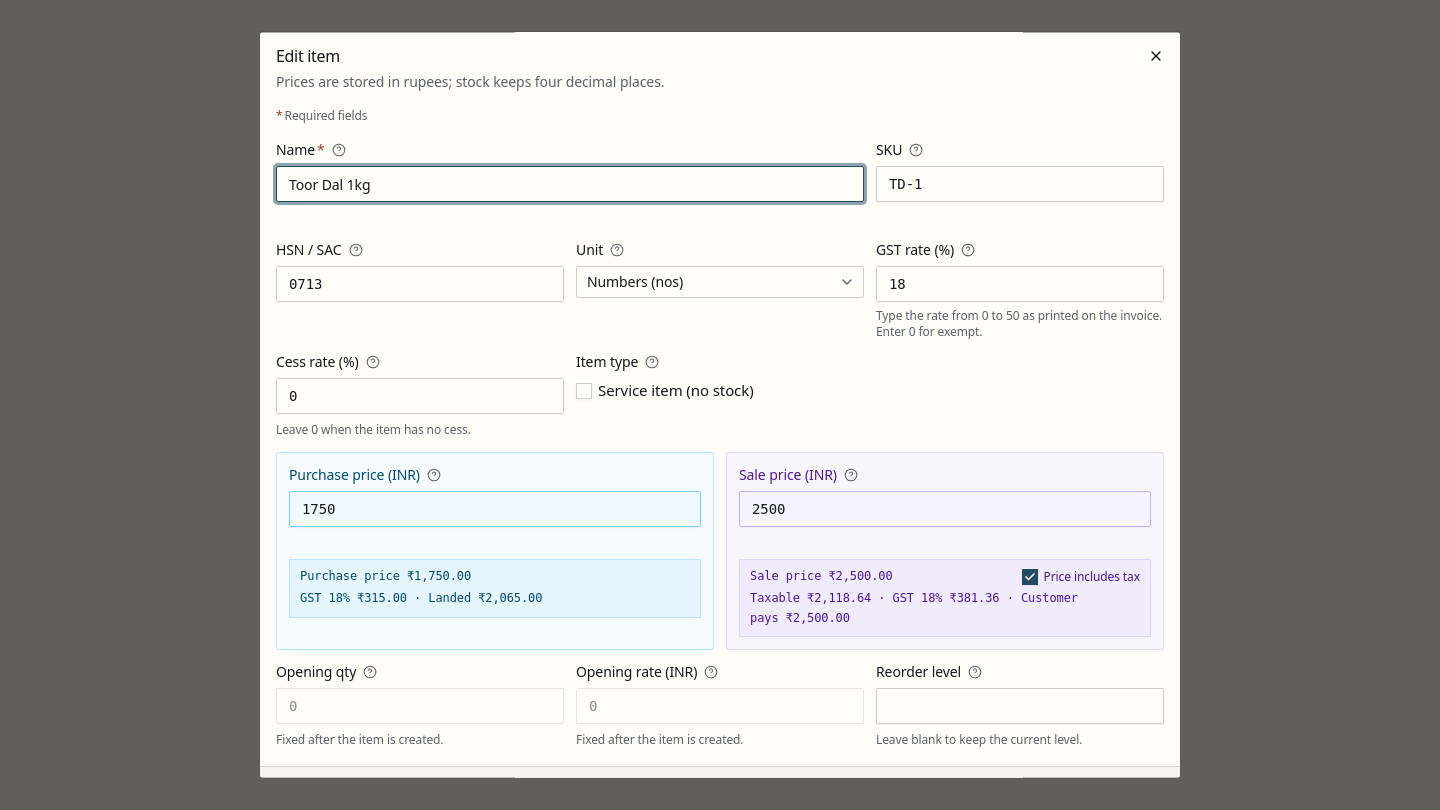
Test case: ItemDialog tax and price breakup › recomputes the breakup from a manually typed GST rate
Replace the text in the field labelled "GST rate (%)" with "5" at (1020, 284), box [876,266,1164,302]
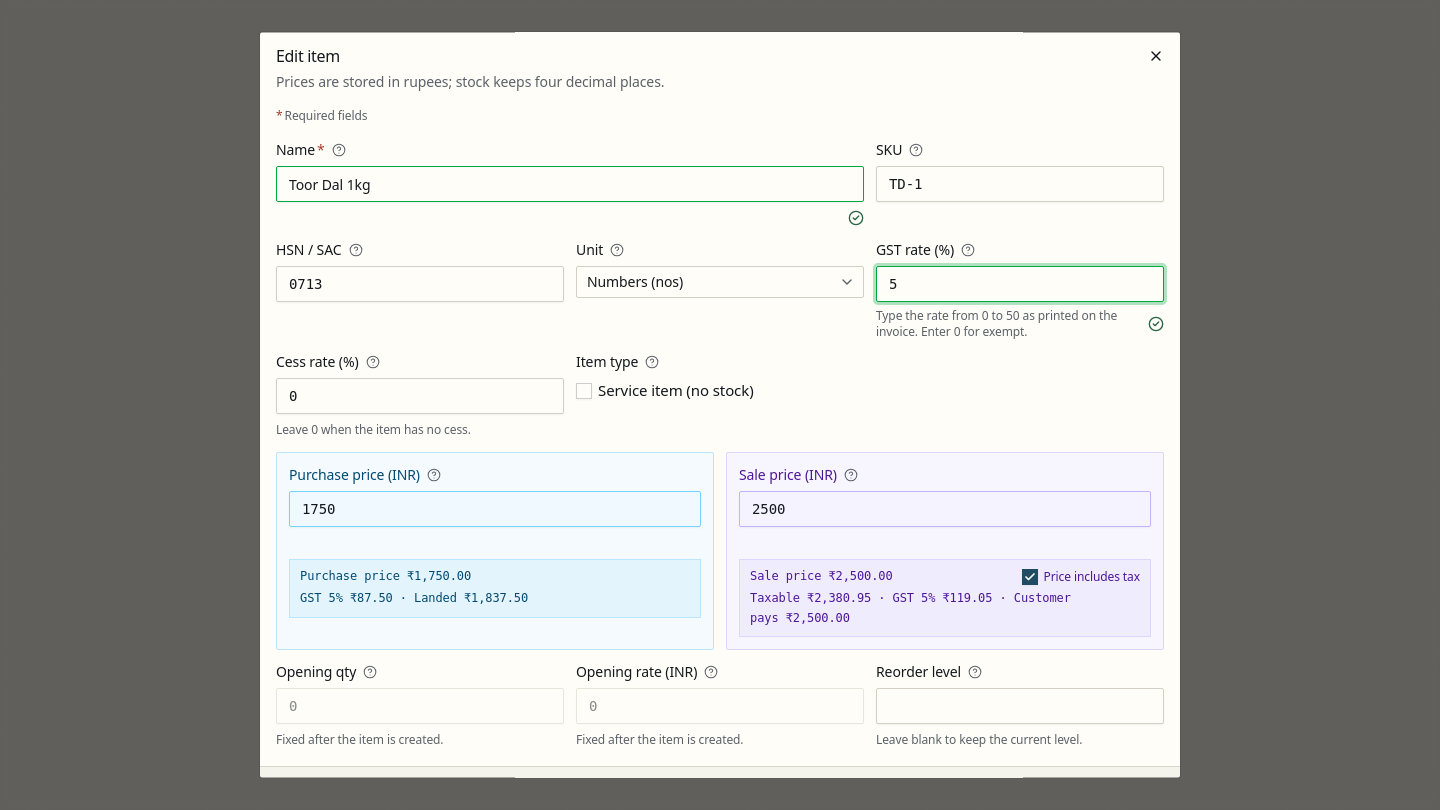
Now the text "Taxable ₹2,380.95 · GST 5% ₹119.05 · Customer pays ₹2,500.00" is shown, box [750,592,1071,625]
